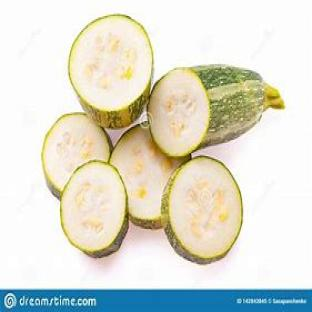Zucchini: (148, 66, 284, 155), (68, 15, 153, 128), (161, 156, 243, 263), (110, 124, 188, 228), (60, 161, 128, 256), (42, 113, 111, 198)
